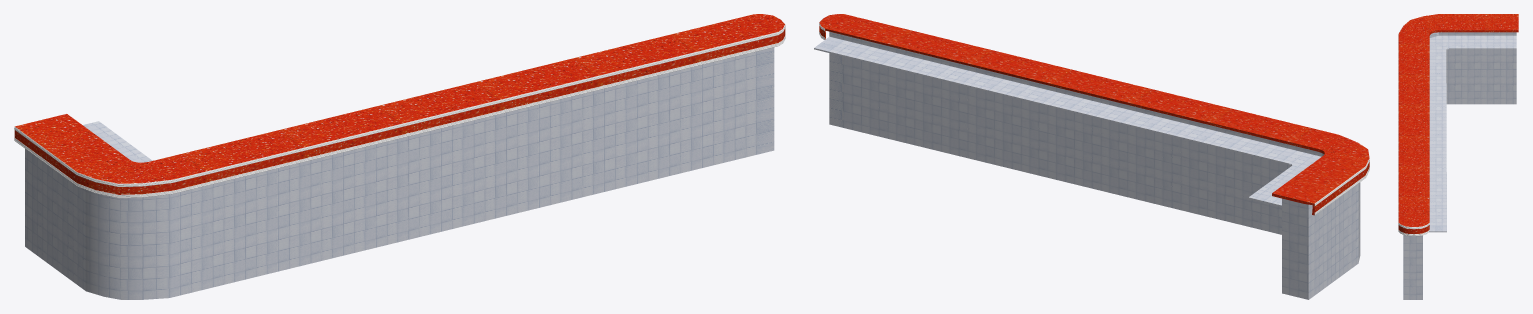
Rendered from table_bar.fbx.
3 views of the same model, side by side, from view 1: azimuth 30°, elevation 25°; view 2: azimuth 150°, elevation 25°; view 3: azimuth 270°, elevation 25° (orthographic). The views are drawn at different scales.
Parts seen in each view (by area): view 1: Box072; view 2: Box072; view 3: Box072.
Part boxes in pixels (box(x1,y1,x2,y2)): Box072: box(14, 14, 785, 299); Box072: box(814, 14, 1369, 299); Box072: box(1398, 14, 1518, 299).
Bounding box in the file's own units: 1652 × 279 × 394.
